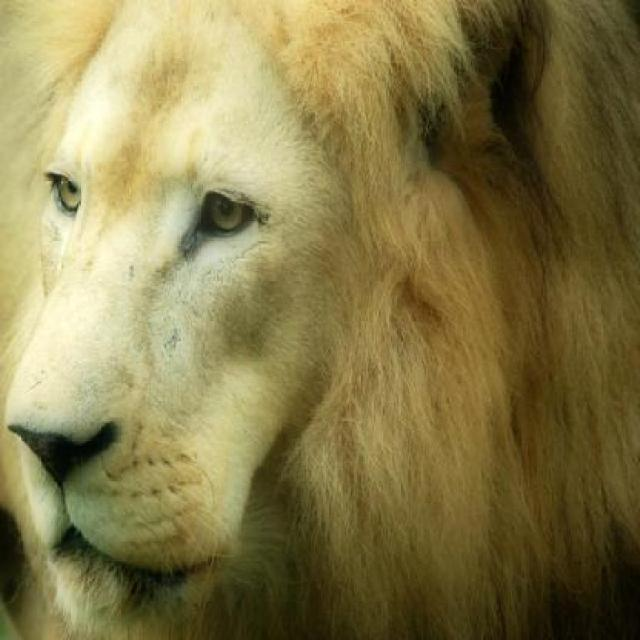Lion: (7, 12, 556, 638)
